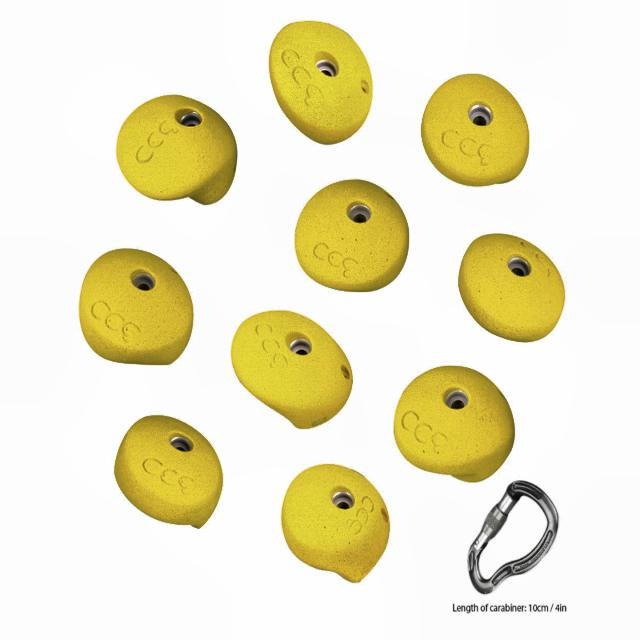Hold: (390, 364, 516, 483), (227, 310, 352, 429), (77, 248, 194, 365), (279, 463, 391, 585), (112, 95, 235, 206), (293, 177, 409, 292), (269, 21, 373, 146), (112, 415, 222, 528), (418, 73, 528, 185), (457, 232, 566, 342)
